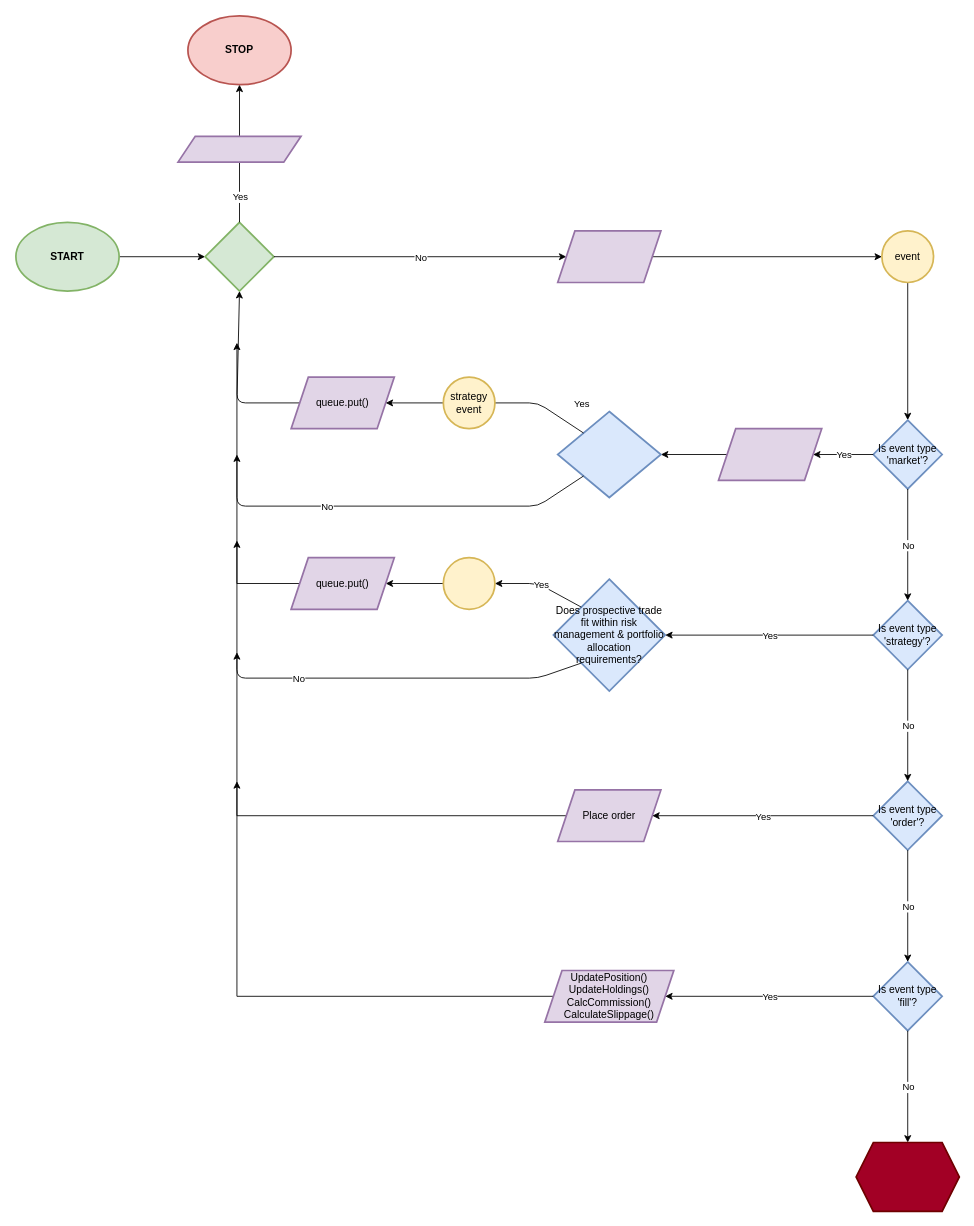
Some shapes in this 974 by 1226 pixel diagram are drawn without their labels. The centre of each missing label's shape, as x and y in pixels:
"calculate signals()" belongs at [769,454].
"Does event pass buy, hold, sell criteria?" belongs at [608,454].
"ERROR" belongs at [907,1176].
"is queue empty?" belongs at [239,256].
"order event" belongs at [468,583].
"queue.pop()" belongs at [608,256].
"Update historicals()" belongs at [239,149].
